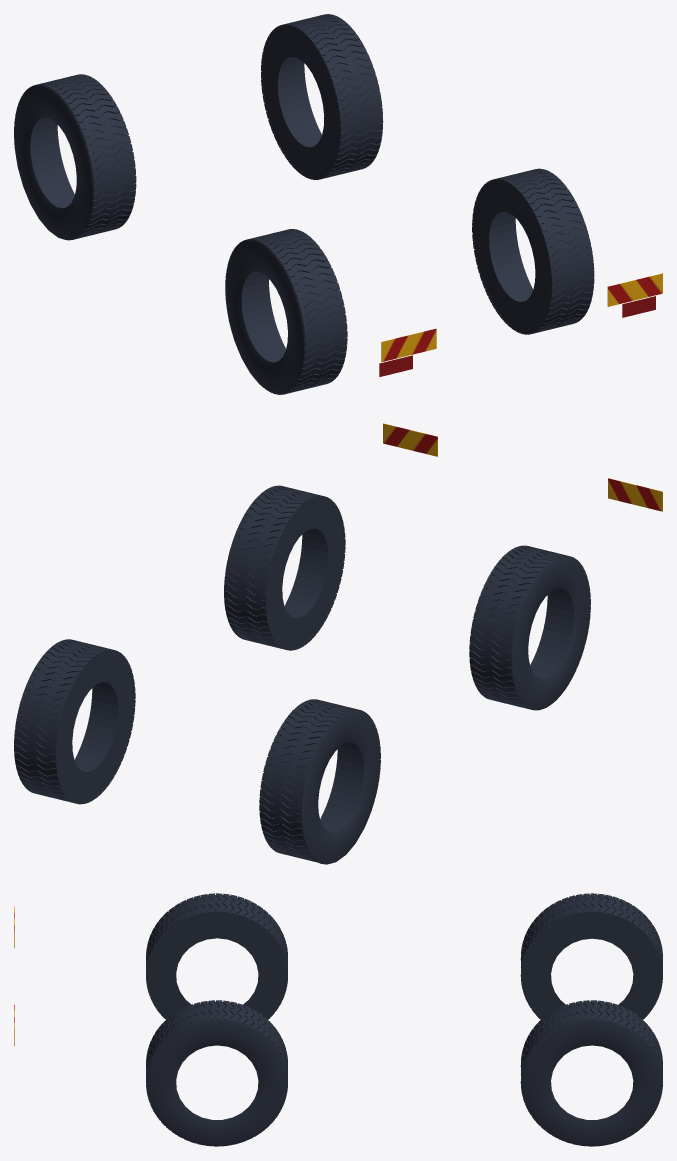
Rendered from NoLod_1.glb.
3 views of the same model, one above another, from view 1: azimuth 30°, elevation 25°; view 2: azimuth 150°, elevation 25°; view 3: azimuth 270°, elevation 25° (orthographic). The views are drawn at different scales.
Visible parts, largest first — view 1: rtc; view 2: rtc; view 3: rtc.
Part boxes in pixels (x1=…): rtc: x1=14, y1=14, x2=662, y2=394; rtc: x1=14, y1=423, x2=662, y2=864; rtc: x1=14, y1=893, x2=662, y2=1146.
Bounding box in the file's own units: 1.79 × 0.8509 × 3.9.
Materials: 3 (3 with a texture image).
